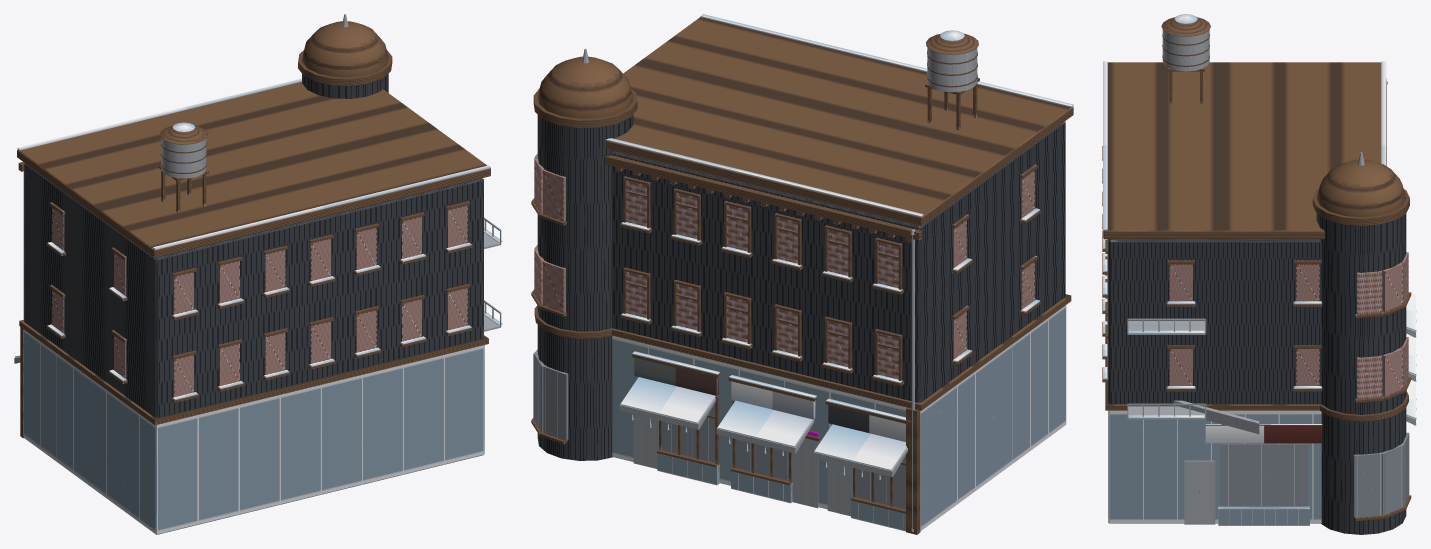
Rendered from ck_shop_row_corner.fbx.
3 views of the same model, side by side, from view 1: azimuth 30°, elevation 25°; view 2: azimuth 150°, elevation 25°; view 3: azimuth 270°, elevation 25° (orthographic). The views are drawn at different scales.
Parts seen in each view (by area): view 1: ck_shop_row_corner; view 2: ck_shop_row_corner; view 3: ck_shop_row_corner.
Part boxes in pixels (left/top/right/bottom): ck_shop_row_corner: left=14, top=14, right=502, bottom=534; ck_shop_row_corner: left=531, top=14, right=1073, bottom=534; ck_shop_row_corner: left=1102, top=14, right=1416, bottom=534.
Bounding box in the file's own units: 4620 × 4255 × 3226.
